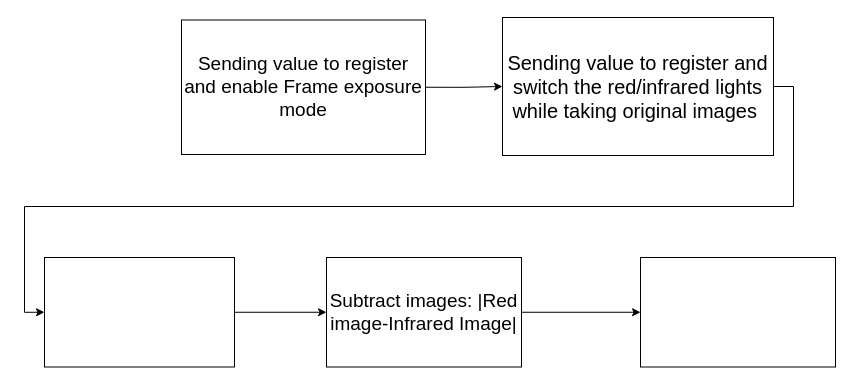
This 853x385 diagram has some shape labels left out. The shapes that lost their labels are listed below. From the top down, each one's box as (x1, y1, x2, y2) in pixels, then its label:
(44, 256, 234, 367): Turn original image to gray format
(640, 256, 836, 367): Compile these subtract images into a video output
